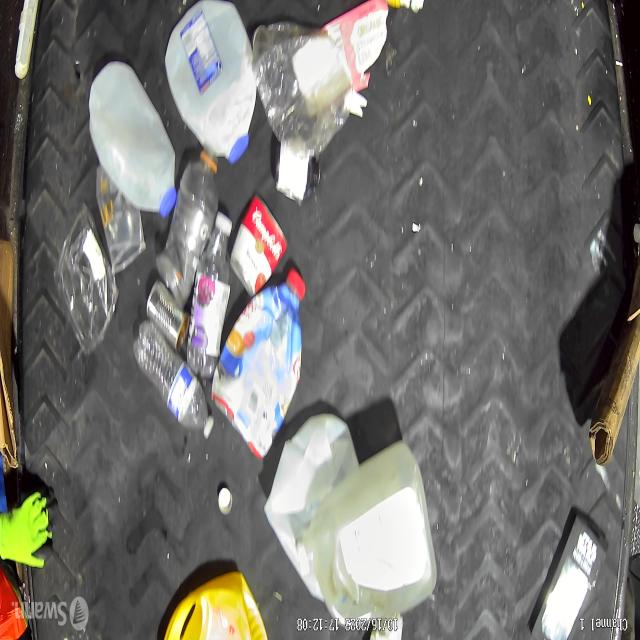can: (228, 194, 289, 300), (145, 279, 191, 352)
milk_jug: (295, 439, 437, 630), (264, 412, 362, 602), (88, 63, 180, 226), (164, 0, 257, 158)
non_white_jug: (164, 576, 270, 640)
plastic_bottle: (153, 145, 212, 297), (137, 331, 213, 436), (186, 212, 232, 368)
